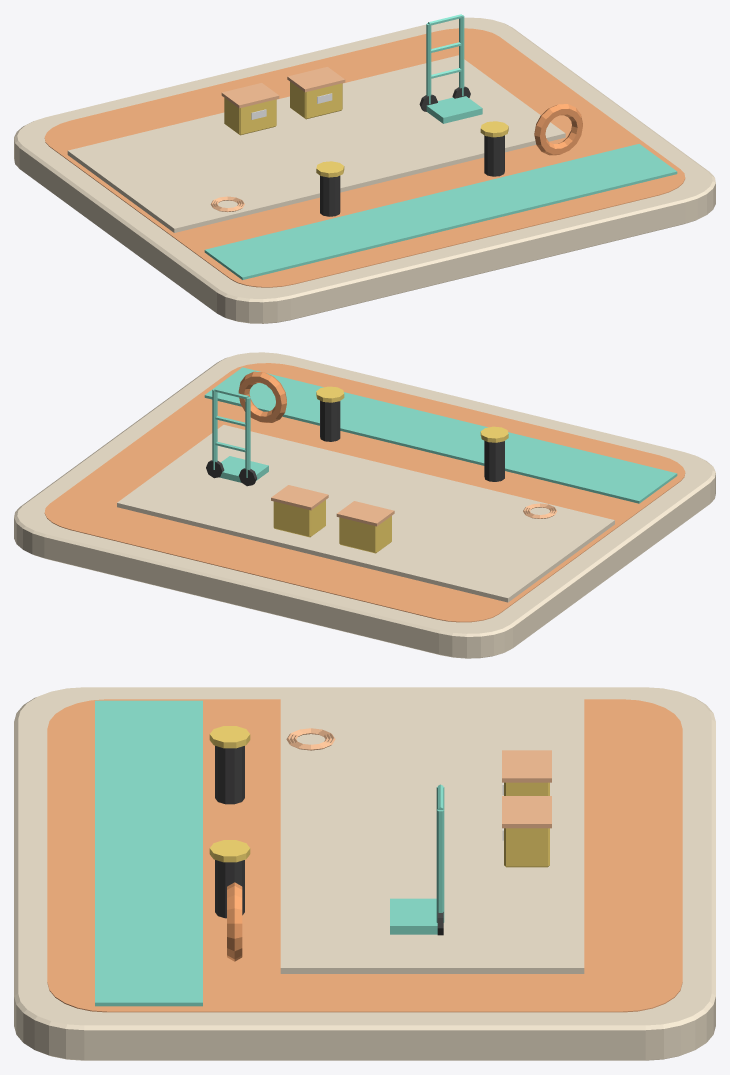
The model's file is room.fbx.
The picture shows the model from 3 angles, top to bottom: view 1: azimuth 30°, elevation 25°; view 2: azimuth 150°, elevation 25°; view 3: azimuth 270°, elevation 25°; orthographic projection. The views are drawn at different scales.
Visible parts, largest first — view 1: Dock paving, COM-01 Rounded Base Direct, COM-02 Floor Surface, Water edge, Life ring, Box, Box.001, Loading plate, Lid, Lid.001, Mooring post.001, Mooring post; view 2: COM-02 Floor Surface, Dock paving, COM-01 Rounded Base Direct, Water edge, Box.001, Box, Life ring, Lid, Lid.001, Mooring post.001, Mooring post, Loading plate; view 3: COM-02 Floor Surface, Dock paving, COM-01 Rounded Base Direct, Water edge, Box.001, Loading plate, Mooring post, Lid, Lid.001, Life ring, Mooring post.001, Frame.001 (+3 smaller).
Part boxes in pixels (left/top/right/bottom): Dock paving: left=67, top=55, right=565, bottom=232; COM-01 Rounded Base Direct: left=14, top=17, right=715, bottom=323; COM-02 Floor Surface: left=44, top=28, right=685, bottom=287; Water edge: left=204, top=144, right=677, bottom=279; Life ring: left=534, top=104, right=582, bottom=155; Box: left=224, top=98, right=276, bottom=135; Box.001: left=290, top=82, right=342, bottom=119; Loading plate: left=426, top=96, right=482, bottom=123; Lid: left=221, top=83, right=279, bottom=108; Lid.001: left=287, top=67, right=345, bottom=92; Mooring post.001: left=484, top=135, right=504, bottom=176; Mooring post: left=320, top=175, right=340, bottom=216; COM-02 Floor Surface: left=44, top=363, right=685, bottom=622; Dock paving: left=117, top=425, right=614, bottom=602; COM-01 Rounded Base Direct: left=14, top=352, right=715, bottom=658; Water edge: left=204, top=367, right=677, bottom=503; Box.001: left=273, top=500, right=325, bottom=537; Box: left=339, top=516, right=391, bottom=553; Life ring: left=238, top=371, right=286, bottom=422; Lid: left=336, top=501, right=394, bottom=526; Lid.001: left=271, top=485, right=328, bottom=510; Mooring post.001: left=320, top=400, right=340, bottom=441; Mooring post: left=484, top=441, right=504, bottom=481; Loading plate: left=219, top=456, right=268, bottom=482; COM-02 Floor Surface: left=47, top=699, right=682, bottom=1012; Dock paving: left=280, top=696, right=584, bottom=973; COM-01 Rounded Base Direct: left=14, top=687, right=715, bottom=1060; Water edge: left=95, top=700, right=202, bottom=1006; Box.001: left=504, top=828, right=549, bottom=867; Loading plate: left=390, top=898, right=437, bottom=934; Mooring post: left=215, top=746, right=244, bottom=804; Lid: left=502, top=750, right=551, bottom=782; Lid.001: left=502, top=796, right=551, bottom=828; Life ring: left=227, top=882, right=242, bottom=961; Mooring post.001: left=215, top=860, right=244, bottom=918; Frame.001: left=436, top=809, right=444, bottom=922.
Size of the model in its own units: 600 by 139 by 520.
